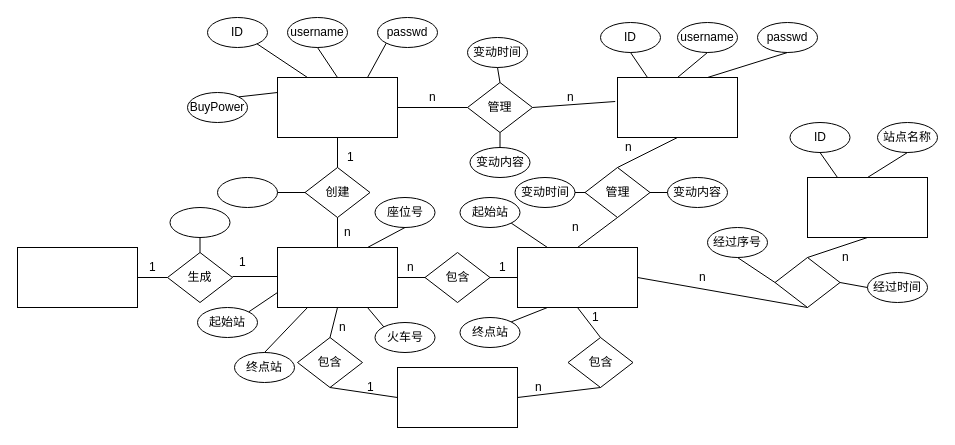
The diagram is 955 pixels wide and 445 high, and some of its shapes have lost their labels. Here are the shapes that lost their labels. From the top down, the centre of each, then its label:
At (x=337, y=107): "用户".
At (x=677, y=107): "管理员".
At (x=247, y=192): "创建时间".
At (x=867, y=207): "站点".
At (x=199, y=222): "时间".
At (x=77, y=277): "车票".
At (x=337, y=277): "订单".
At (x=577, y=277): "火车".
At (x=807, y=282): "经过".
At (x=457, y=397): "座位".
